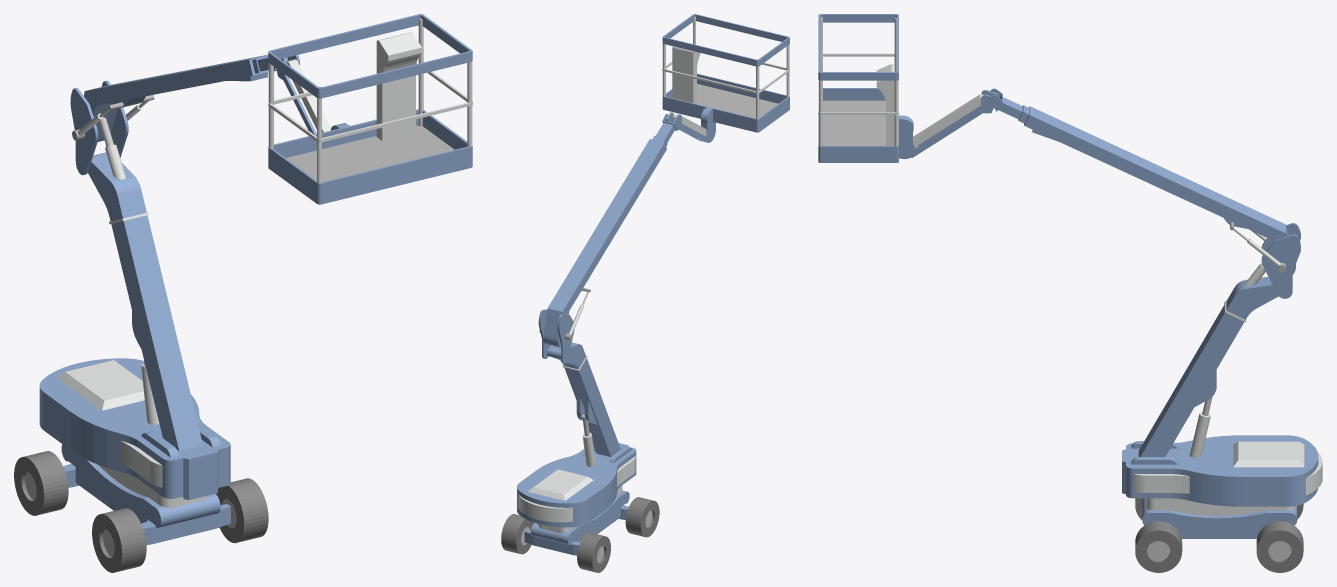
Rendered from boom-lift-45ft-raised.glb.
The picture shows the model from 3 angles, left to right: view 1: azimuth 30°, elevation 25°; view 2: azimuth 150°, elevation 25°; view 3: azimuth 270°, elevation 25°; orthographic projection. The views are drawn at different scales.
Visible parts, largest first — view 1: Geom3D_4, Geom3D_23, Geom3D_10, Geom3D_7, Geom3D_22, Geom3D_13, Geom3D_5, Geom3D_21, Geom3D_14, Geom3D_9, Geom3D_19, Geom3D_6 (+1 smaller); view 2: Geom3D_4, Geom3D_13, Geom3D_23, Geom3D_7, Geom3D_10, Geom3D_5, Geom3D_22, Geom3D_21, Geom3D_18, Geom3D_9; view 3: Geom3D_4, Geom3D_13, Geom3D_10, Geom3D_5, Geom3D_23, Geom3D_7, Geom3D_21, Geom3D_22, Geom3D_18, Geom3D_19, Geom3D_6, Geom3D_9.
Boxes of the visible parts, x1,y1,x2,y2 form: Geom3D_4: (39, 358, 230, 545); Geom3D_23: (268, 14, 472, 204); Geom3D_10: (88, 152, 202, 451); Geom3D_7: (14, 451, 268, 572); Geom3D_22: (268, 18, 472, 183); Geom3D_13: (70, 54, 287, 175); Geom3D_5: (56, 360, 207, 507); Geom3D_21: (286, 125, 454, 181); Geom3D_14: (78, 104, 142, 179); Geom3D_9: (109, 212, 159, 424); Geom3D_19: (286, 59, 330, 132); Geom3D_6: (25, 472, 236, 556); Geom3D_4: (517, 443, 636, 555); Geom3D_13: (538, 114, 679, 363); Geom3D_23: (662, 14, 789, 132); Geom3D_7: (501, 497, 659, 572); Geom3D_10: (547, 343, 620, 456); Geom3D_5: (518, 456, 635, 533); Geom3D_22: (662, 17, 789, 119); Geom3D_21: (697, 84, 778, 118); Geom3D_18: (665, 107, 715, 142); Geom3D_9: (562, 355, 595, 466); Geom3D_4: (1122, 435, 1318, 538); Geom3D_13: (990, 88, 1300, 298); Geom3D_10: (1138, 276, 1278, 456); Geom3D_5: (1133, 441, 1322, 515); Geom3D_23: (818, 14, 898, 162); Geom3D_7: (1135, 498, 1303, 572); Geom3D_21: (823, 100, 885, 145); Geom3D_22: (818, 17, 898, 146); Geom3D_18: (898, 90, 997, 159); Geom3D_19: (913, 94, 983, 146); Geom3D_6: (1147, 541, 1291, 560); Geom3D_9: (1189, 301, 1246, 457).
Size of the model in its own units: 0.2975 by 1.18 by 1.07.
